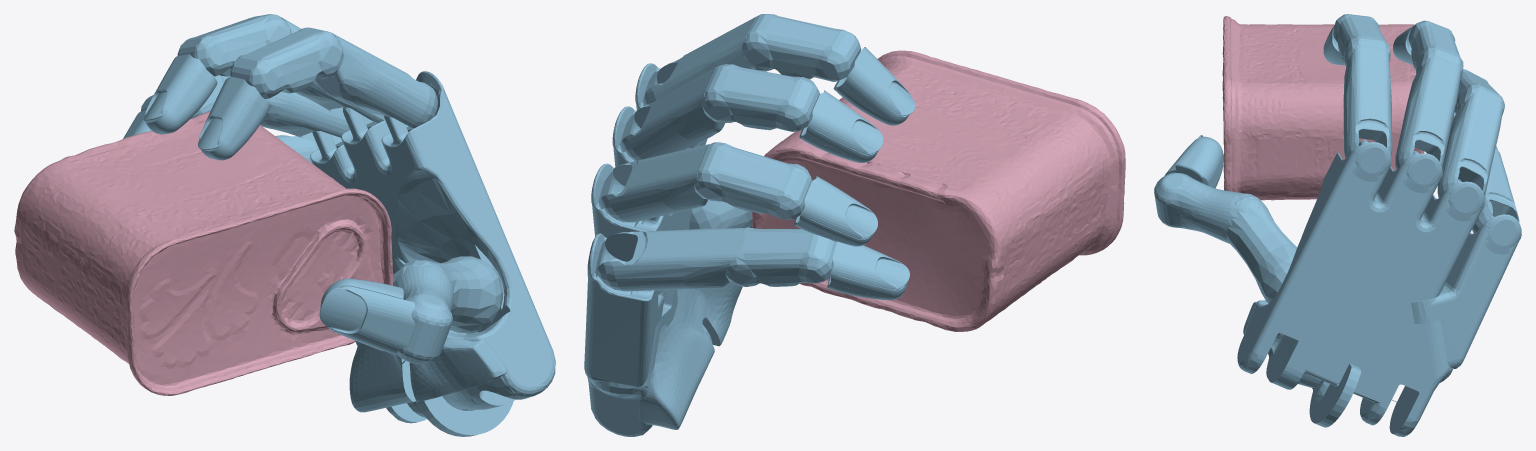
3 views of the same model, side by side, from view 1: azimuth 30°, elevation 25°; view 2: azimuth 150°, elevation 25°; view 3: azimuth 270°, elevation 25° (orthographic). The views are drawn at different scales.
Visible parts, largest first — view 1: world; view 2: world; view 3: world.
Boxes of the visible parts, box(x1,y1,x2,y2) form: world: box(14, 14, 555, 436); world: box(584, 14, 1125, 436); world: box(1154, 14, 1521, 436).
Size of the model in its own units: 0.1753 by 0.1602 by 0.1522.
